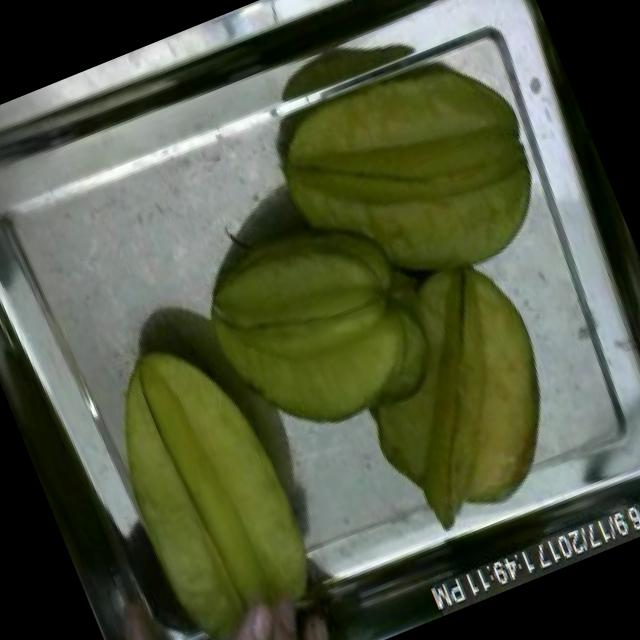fruit: (246, 21, 578, 336), (61, 298, 358, 640), (310, 228, 600, 549), (168, 184, 454, 471)
